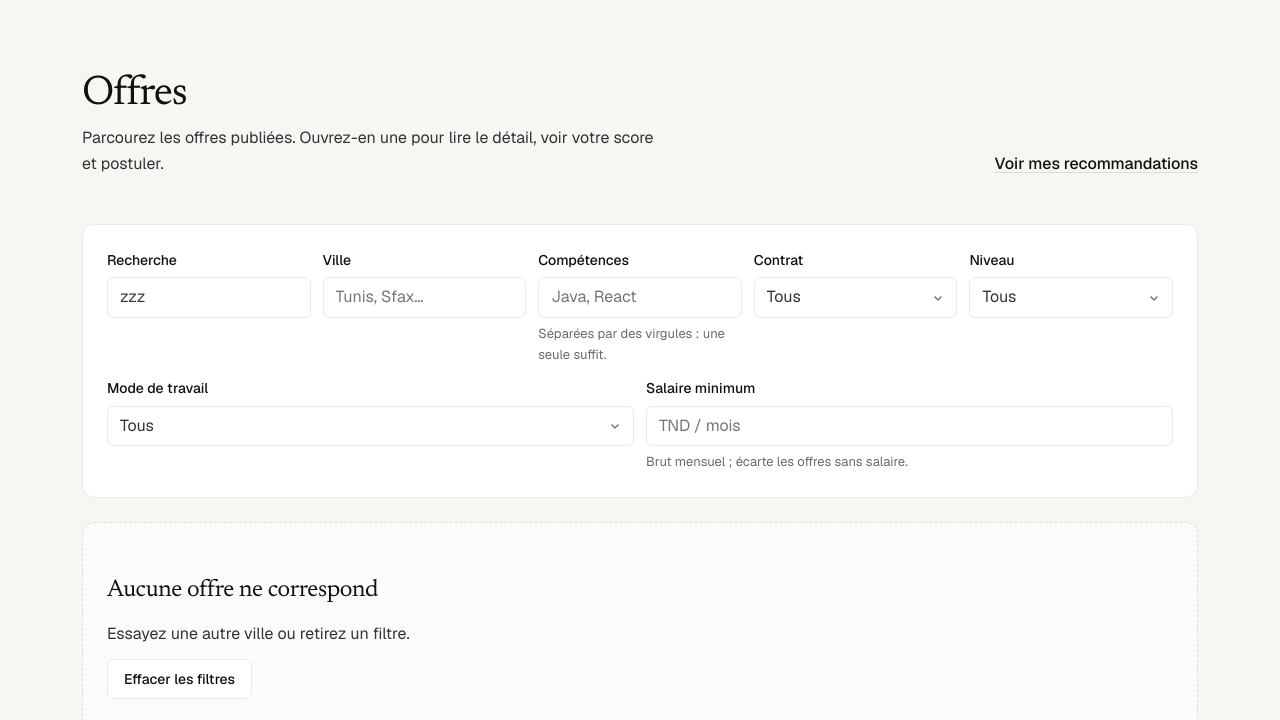
it: job search › offers to clear the filters when nothing matches
Check: the text "Aucune offre ne correspond" is shown, box left=107, top=571, right=378, bottom=609
Click the button "Effacer les filtres": click(180, 679) left=107, top=659, right=252, bottom=699
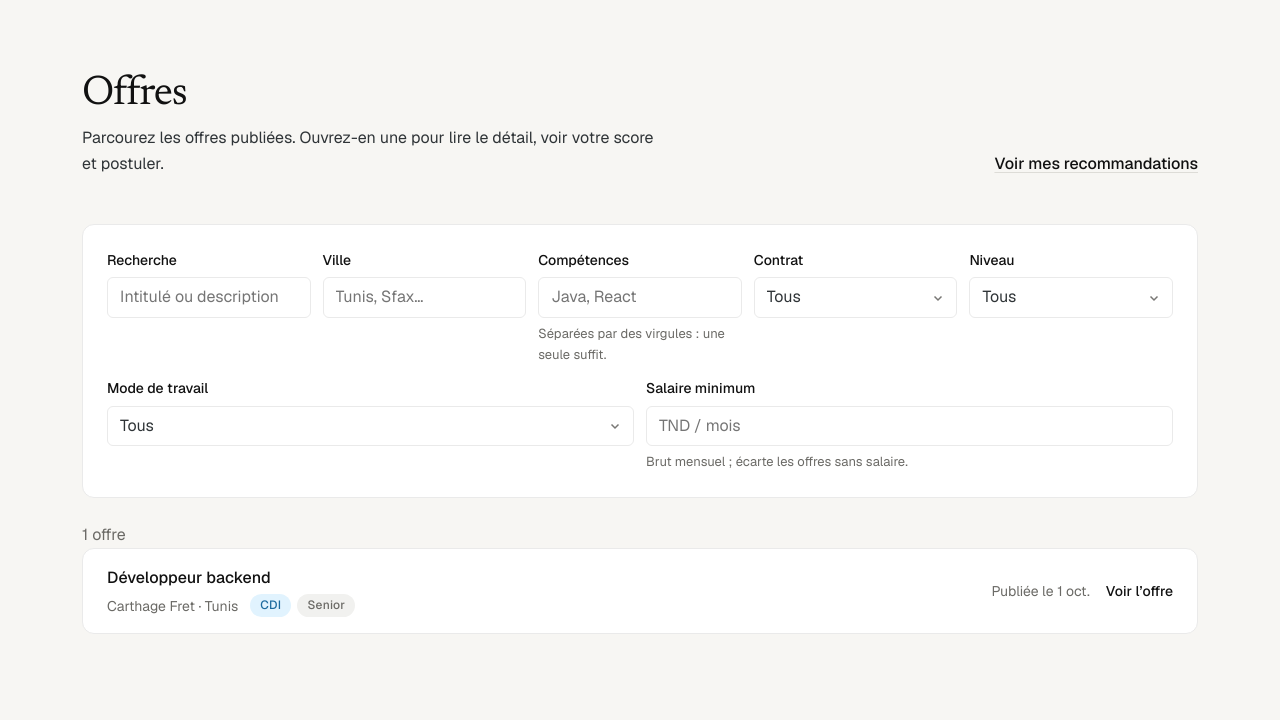
Check: the text "1 offre" is shown, box left=82, top=524, right=126, bottom=545
Check: the field labelled "Recherche" is empty, box left=107, top=278, right=311, bottom=318
